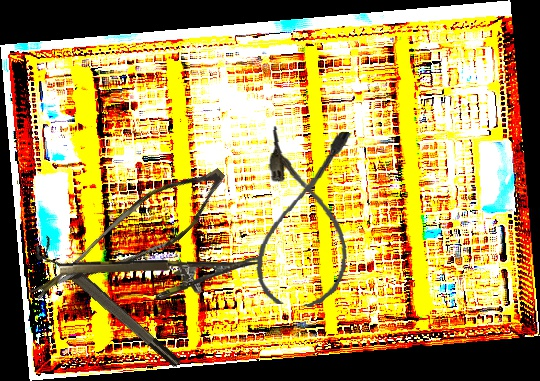Cannula: (253, 125, 358, 310)
Fixation Ring: (30, 234, 184, 377)
Micro Scissor: (25, 137, 236, 343)
Needle Holder: (59, 257, 259, 301)
